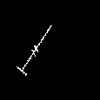treble_crochet: (18, 26, 50, 74)
